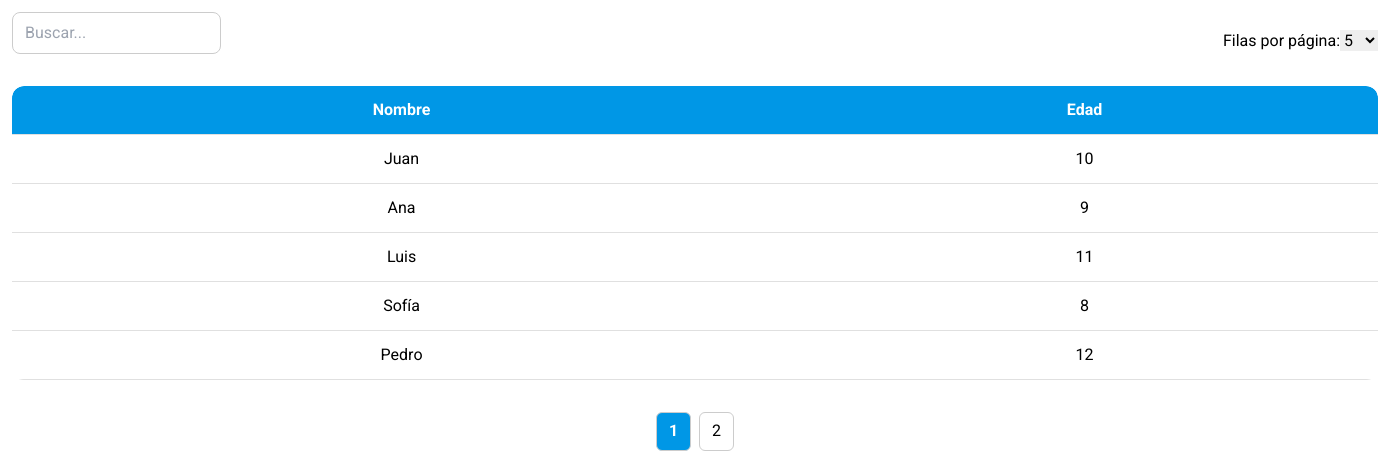
Test: DataTable component › filtra resultados por texto
Step 1. Type "Ana" into the field with placeholder "Buscar..." → [116, 33], box top-left (12, 12), bottom-right (221, 54)
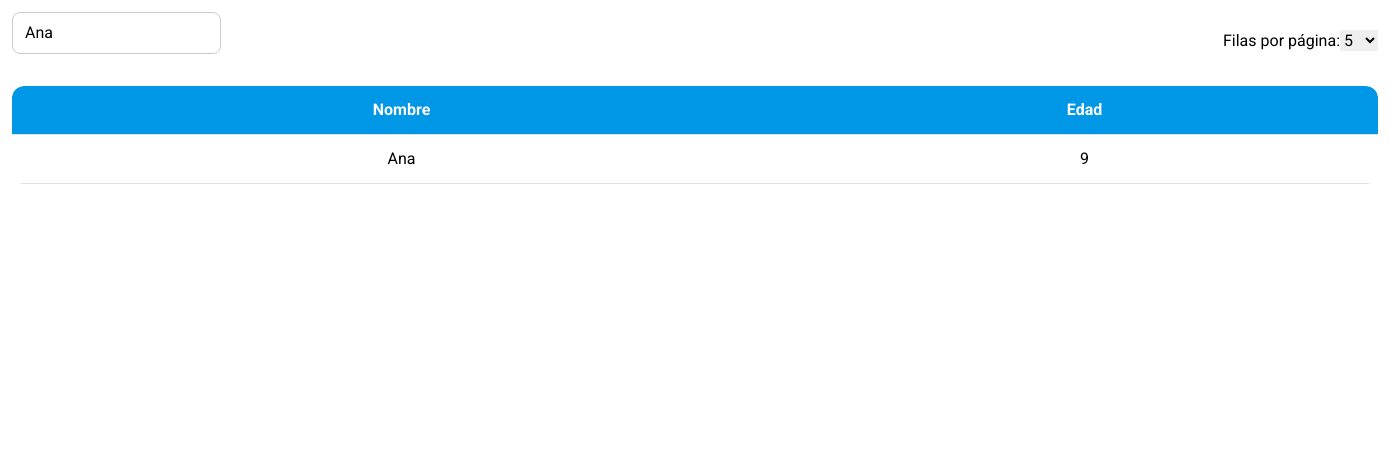
Result: the text "Ana" is shown at top-left (12, 134), bottom-right (791, 184)
Result: the text "Juan" is gone
